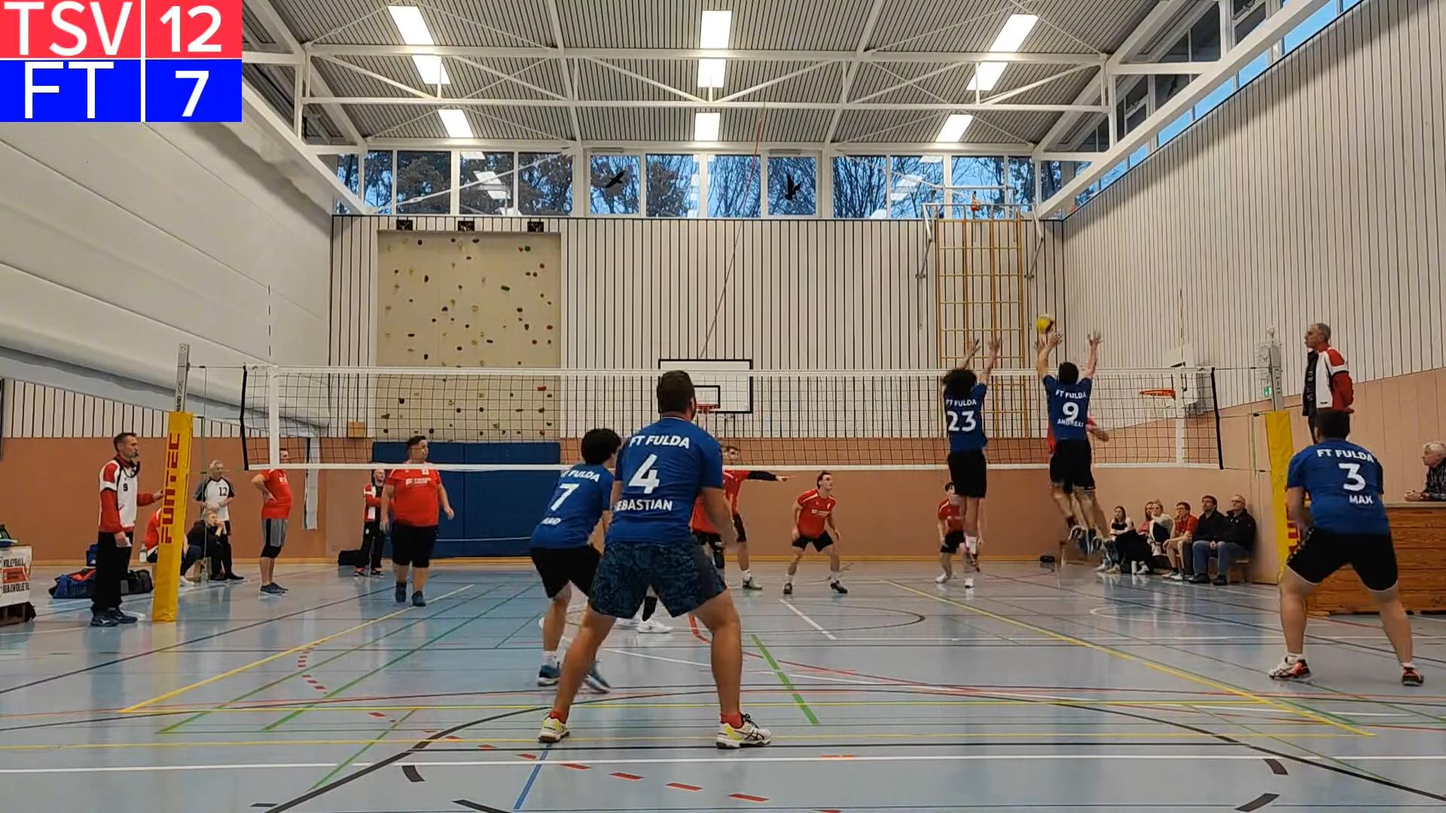muro: (1024, 328, 1120, 569), (939, 327, 1003, 574)
